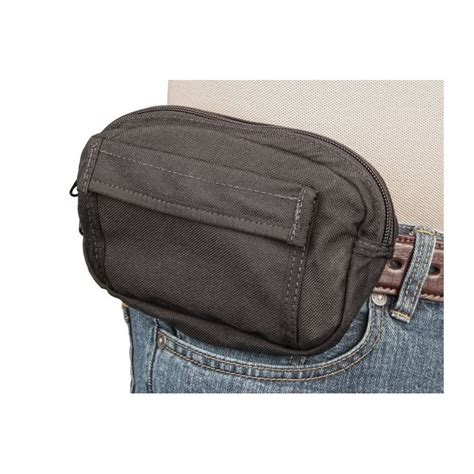nylon: (71, 104, 400, 355)
